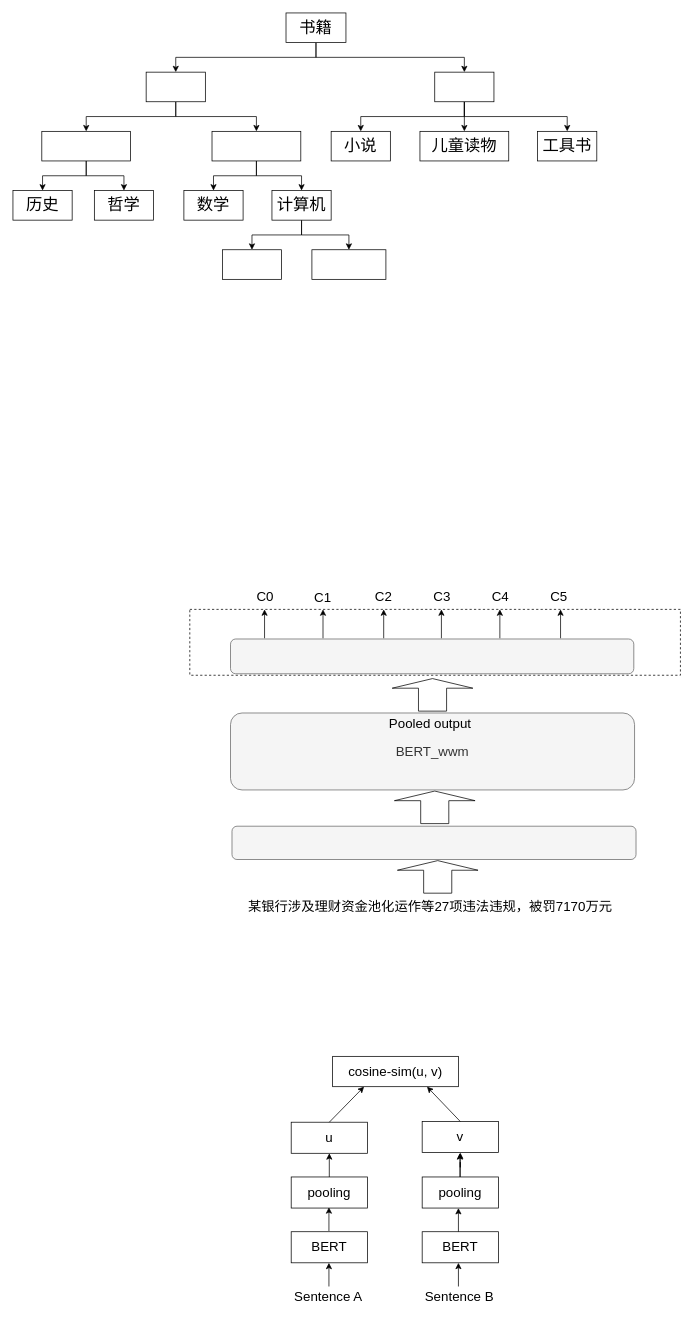
The diagram is 693 pixels wide and 1321 high, and some of its shapes have lost their labels. Each missing label, with the centre of its shape:
Linear: pixel 432 656
Tokenizer.encode(): pixel 433 842
内容: pixel 464 86
学科: pixel 175 86
操作系统: pixel 348 264
数据库: pixel 252 264
社会科学: pixel 86 146
自然科学: pixel 256 146
